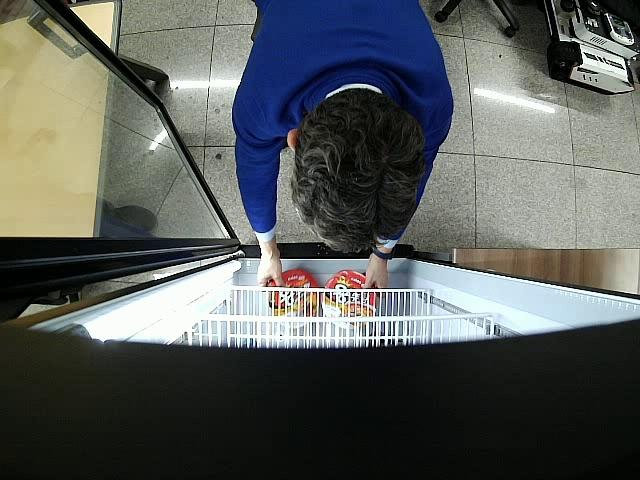00_hand: (257, 248, 284, 288), (362, 261, 389, 289)
10_wangTtukkeong: (320, 270, 378, 330), (266, 269, 320, 328)
